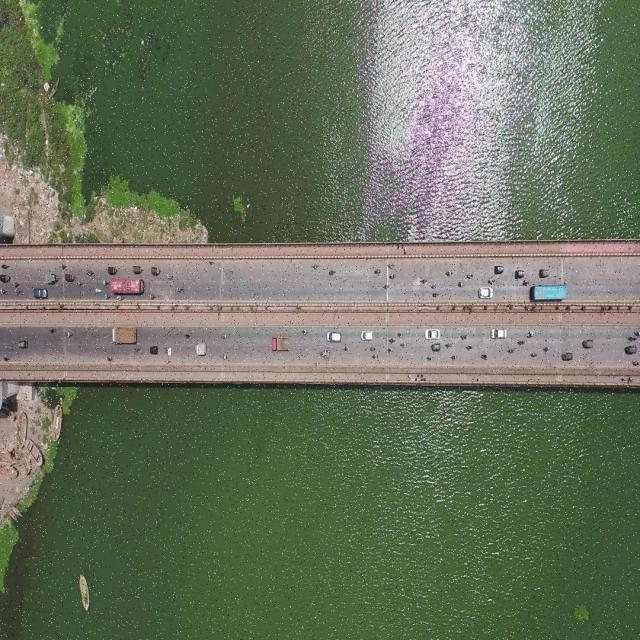3W: (196, 342, 208, 358), (317, 346, 331, 359), (624, 343, 638, 355), (149, 342, 160, 357), (430, 342, 443, 354), (582, 336, 595, 348), (149, 264, 161, 276), (0, 271, 11, 284), (131, 262, 142, 275), (494, 262, 504, 276), (538, 266, 550, 277), (561, 350, 573, 361), (16, 340, 29, 350), (513, 269, 526, 279), (106, 265, 118, 275), (65, 271, 75, 282)
Bus: (530, 284, 568, 304), (111, 274, 144, 293)
Cars: (325, 326, 342, 344), (476, 284, 494, 300), (490, 326, 509, 340), (32, 285, 49, 300), (357, 329, 375, 341), (425, 327, 440, 340)
M2W: (105, 349, 117, 366), (63, 329, 78, 342), (174, 284, 187, 297), (48, 324, 59, 339), (85, 264, 96, 278), (465, 270, 477, 282), (184, 330, 193, 346), (3, 352, 14, 365), (505, 346, 517, 357), (400, 339, 410, 352), (445, 266, 455, 279), (94, 282, 102, 298), (132, 342, 142, 354), (627, 332, 637, 344), (164, 271, 176, 280), (220, 330, 229, 342), (329, 268, 338, 280), (387, 344, 396, 356), (396, 326, 405, 338), (373, 265, 382, 277), (164, 344, 173, 356), (388, 333, 396, 346), (530, 350, 540, 360), (486, 276, 497, 285), (522, 278, 531, 289), (102, 276, 110, 288), (426, 353, 434, 365), (632, 356, 640, 368), (13, 287, 23, 296), (311, 262, 320, 272), (300, 326, 309, 336), (371, 352, 381, 361), (456, 279, 465, 289), (527, 328, 535, 339), (460, 328, 467, 340), (59, 262, 68, 271), (542, 344, 551, 353), (149, 290, 157, 300), (388, 272, 398, 280), (383, 280, 390, 291), (342, 344, 350, 353), (368, 344, 376, 353), (450, 352, 458, 361), (464, 345, 476, 351), (480, 352, 488, 361), (222, 349, 228, 360), (164, 355, 171, 364), (77, 279, 84, 288), (420, 276, 427, 285), (432, 291, 442, 297), (104, 294, 112, 301), (517, 338, 524, 346), (115, 295, 126, 300), (430, 283, 439, 289), (444, 342, 453, 348), (12, 281, 19, 288), (387, 263, 394, 269)
Truck: (112, 324, 137, 344), (269, 333, 291, 353), (44, 268, 59, 285)
